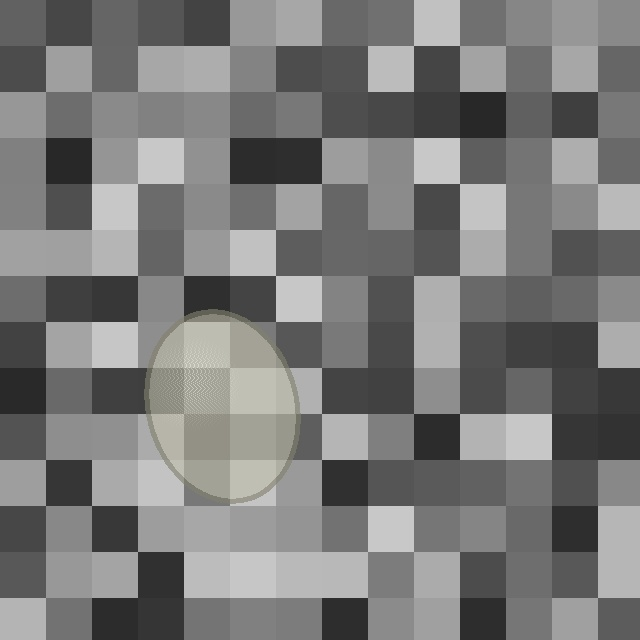lens: (147, 311, 297, 501)
